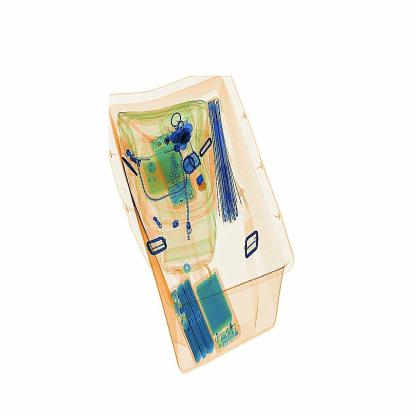wrench: (190, 171, 214, 201)
